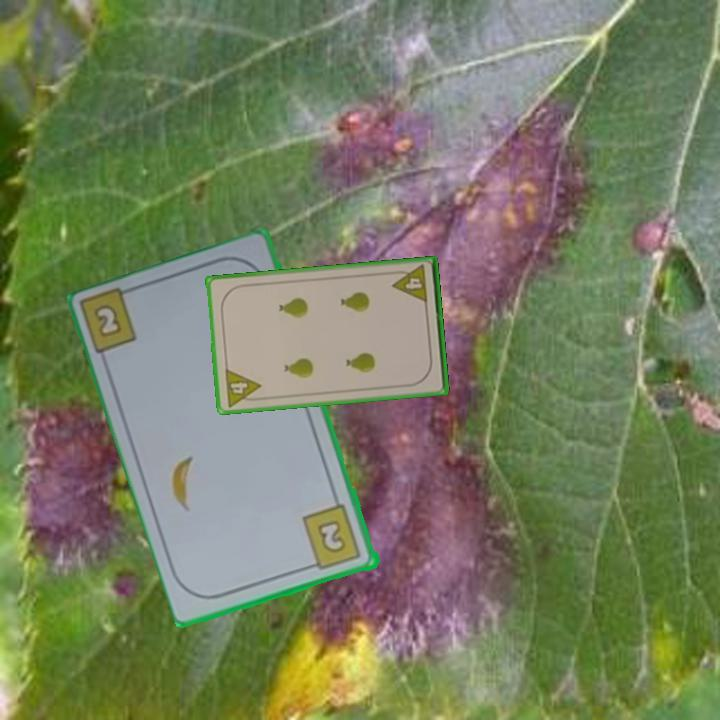2b: (299, 501, 365, 573), (93, 303, 126, 341)
4p: (221, 365, 264, 410), (389, 262, 430, 306)
